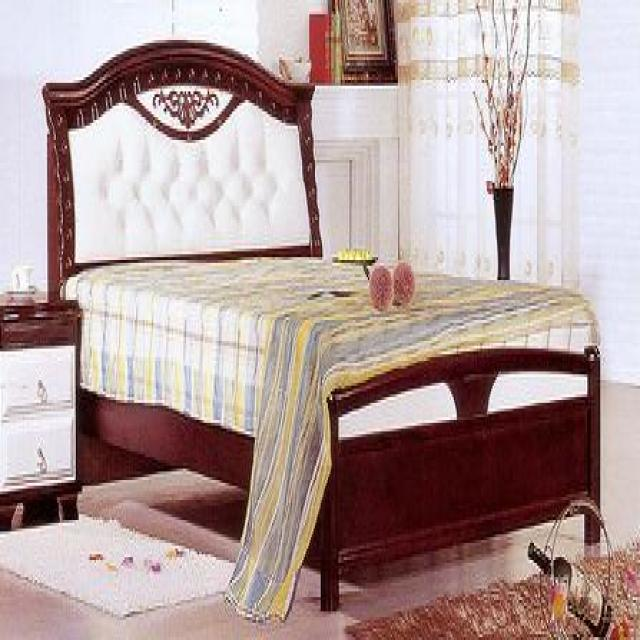bed: (43, 38, 604, 614)
